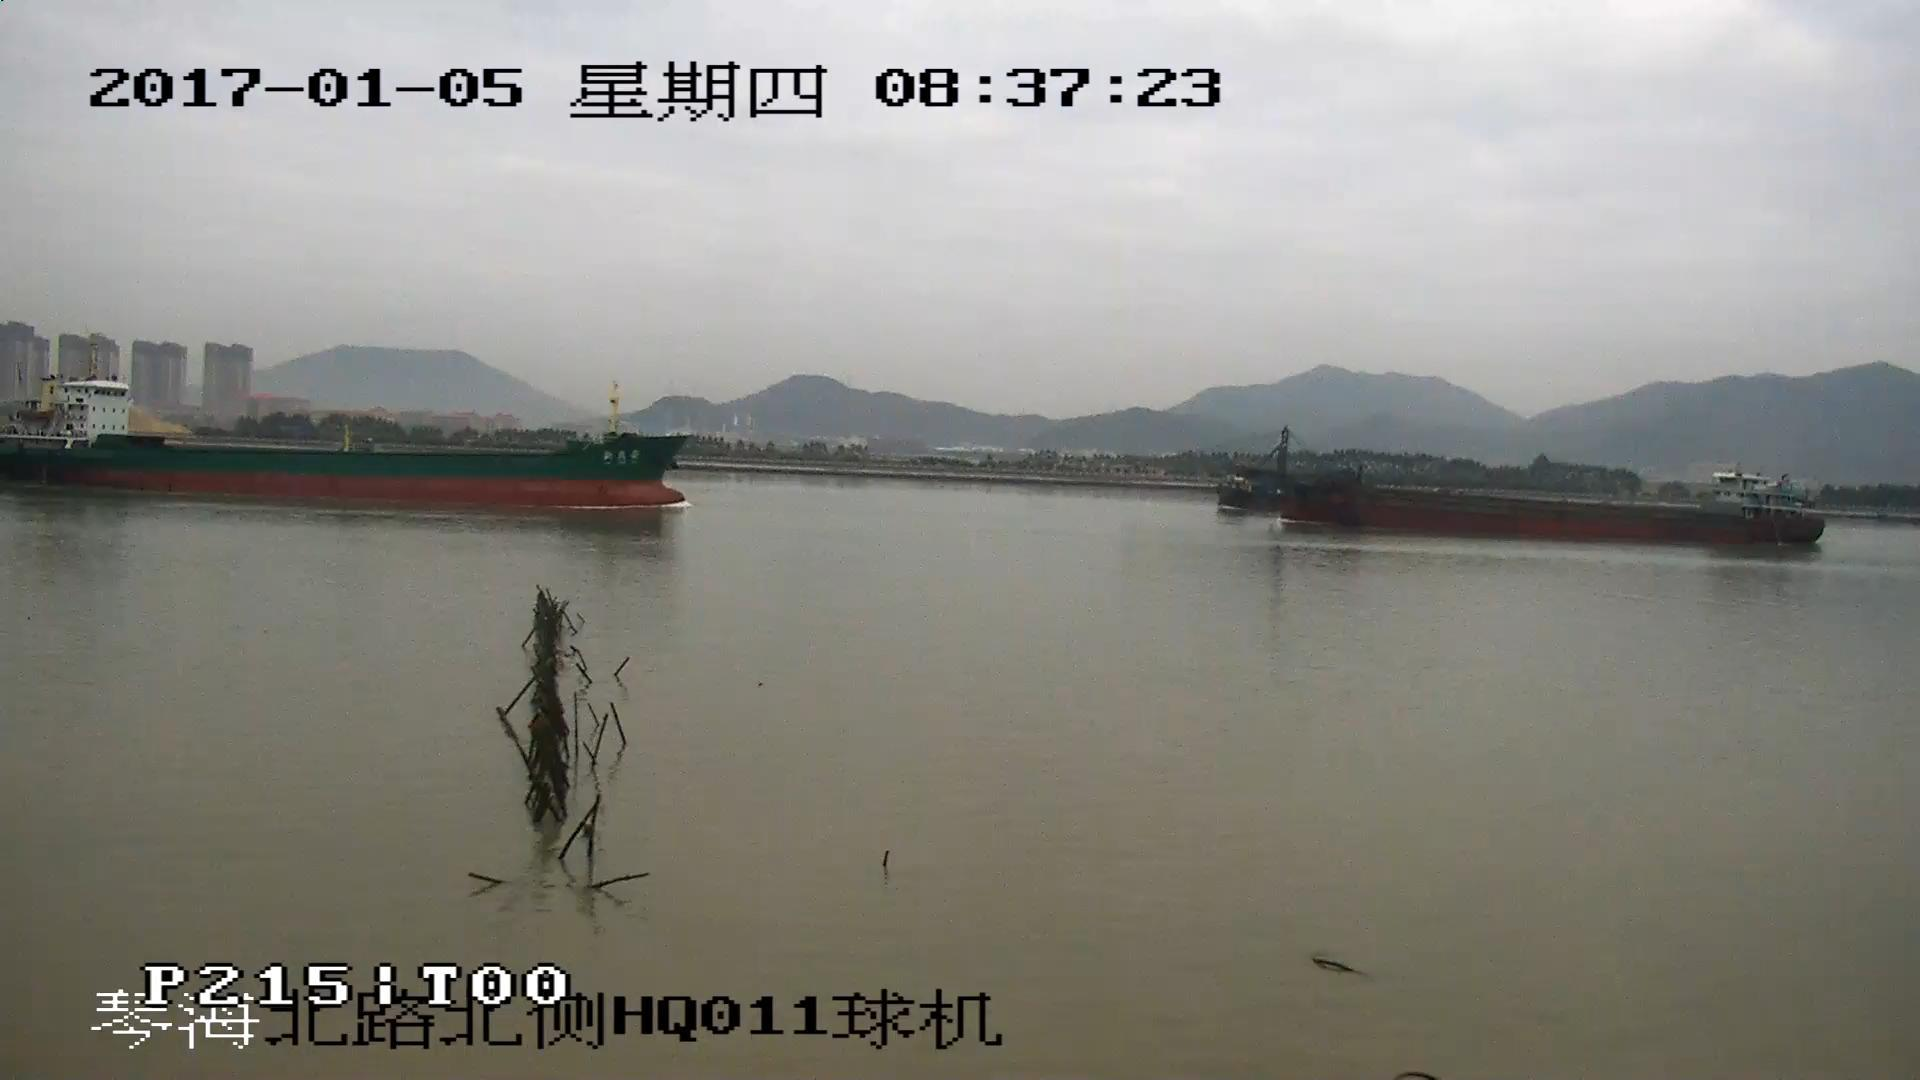Ship: (3, 342, 688, 506), (1228, 438, 1820, 545)
